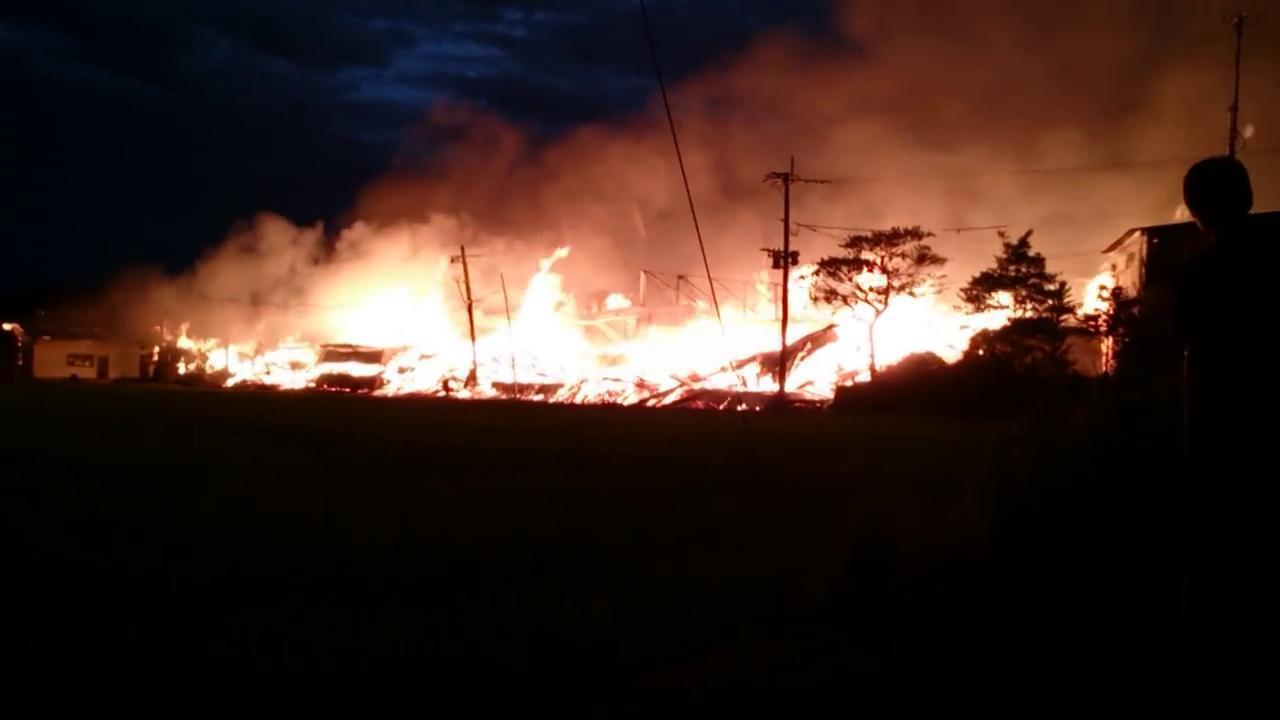Fire: (148, 253, 1031, 405), (1077, 268, 1126, 318), (3, 320, 23, 334)
